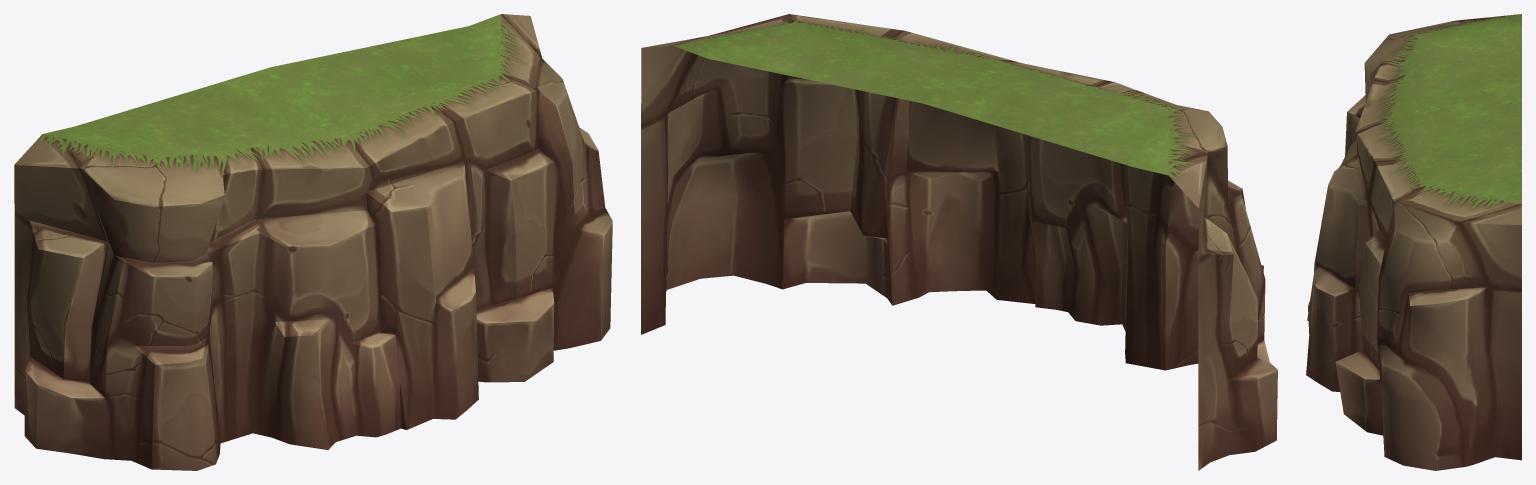
The model's file is Cliff #1.FBX.
3 renders of one model, left to right at view 1: azimuth 30°, elevation 25°; view 2: azimuth 150°, elevation 25°; view 3: azimuth 270°, elevation 25°, orthographic. The views are drawn at different scales.
Visible parts, largest first — view 1: Cliff #1; view 2: Cliff #1; view 3: Cliff #1.
Boxes of the visible parts, box(x1,y1,x2,y2) form: Cliff #1: box(14, 14, 612, 470); Cliff #1: box(641, 14, 1277, 470); Cliff #1: box(1306, 14, 1521, 470).
Size of the model in its own units: 713 by 335 by 266.
Materials: 1 (1 with a texture image).
